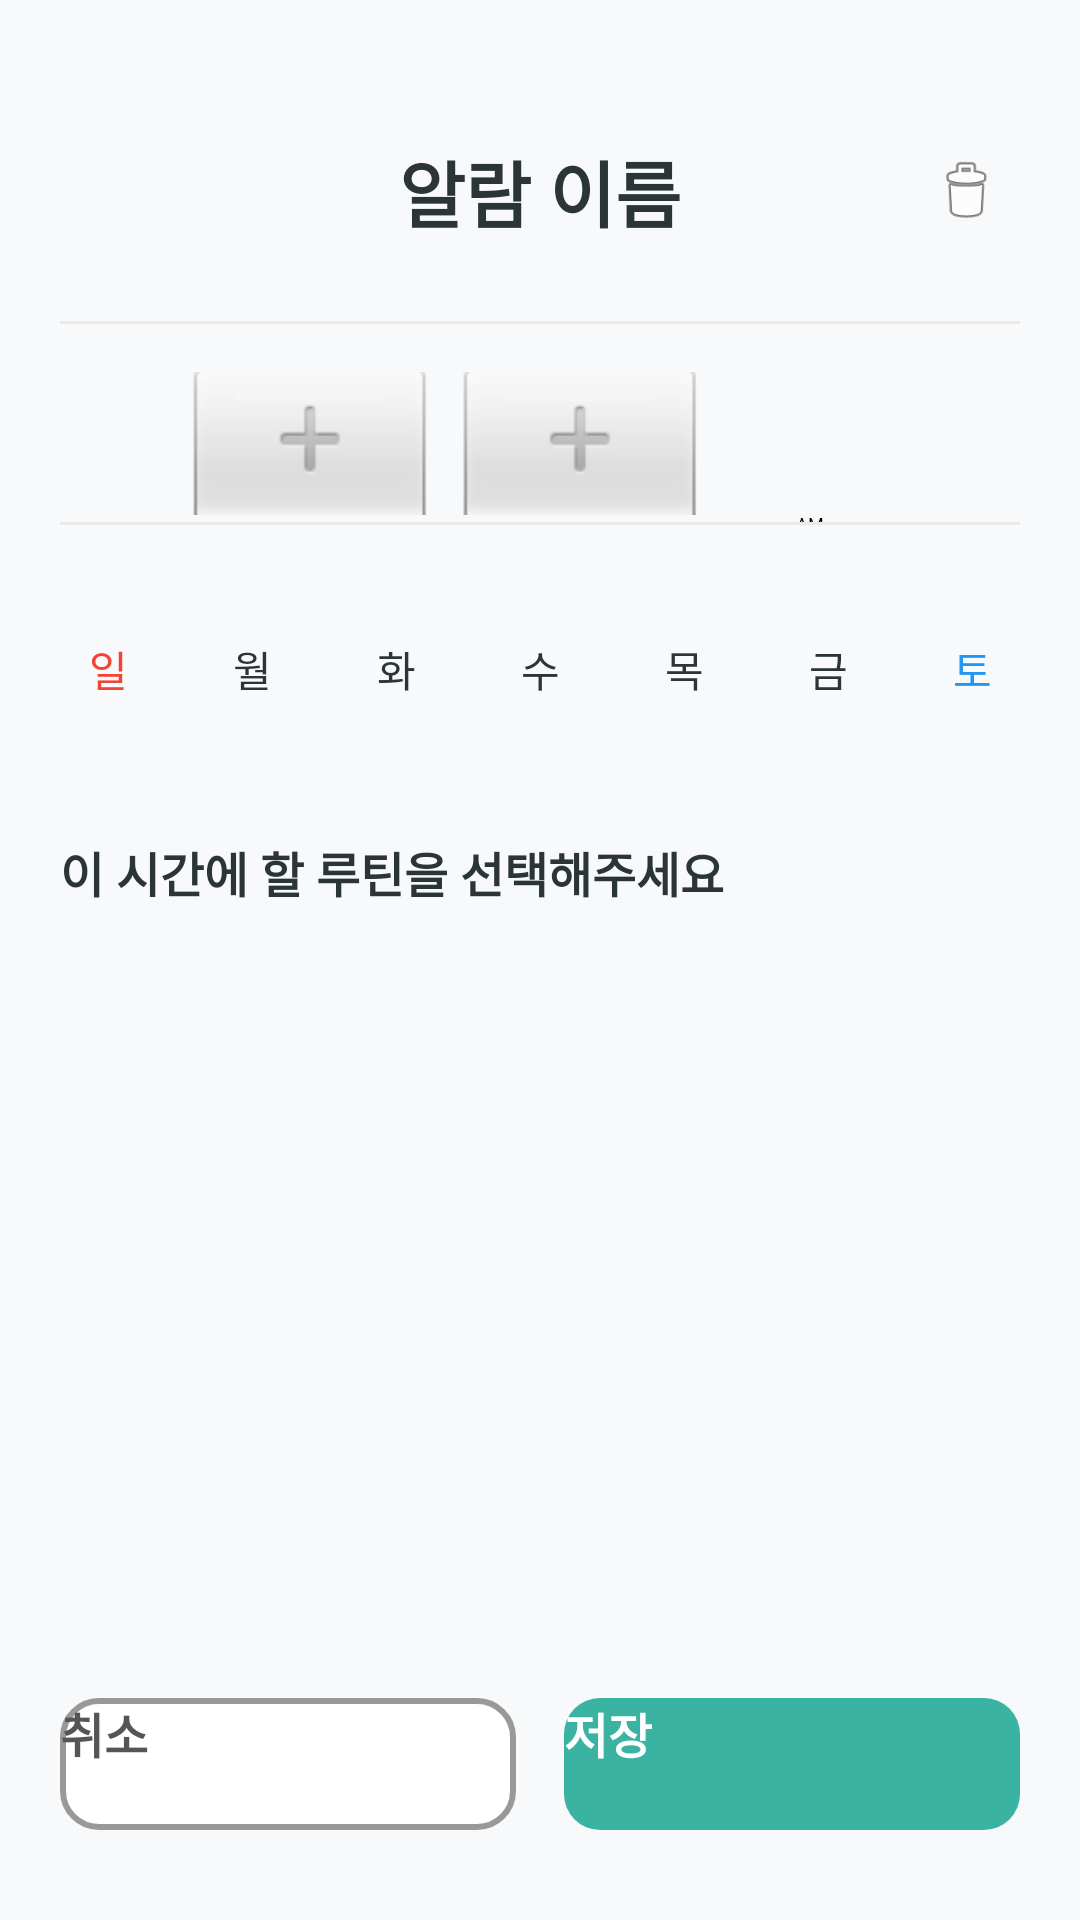

Icons on this 1080x1920 Android screen, each with the point to tap as point (x, y):
delete: point (966, 190)
